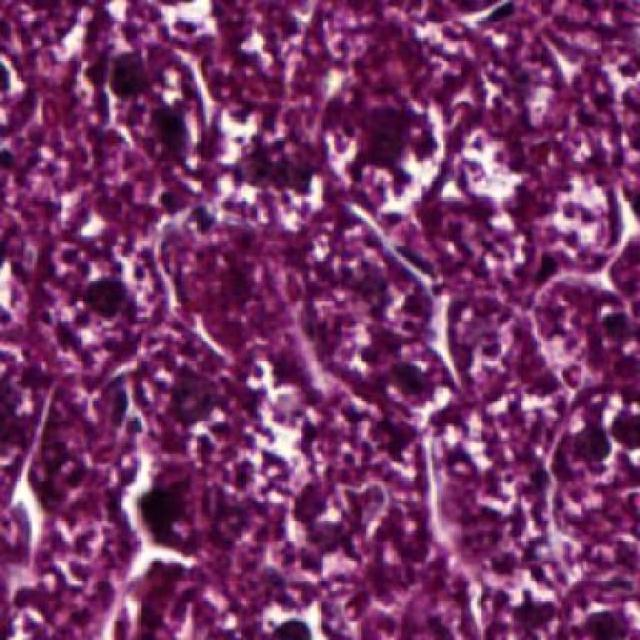inflammation: (205, 109, 332, 233), (322, 92, 450, 214), (118, 471, 211, 574), (529, 171, 622, 271), (446, 120, 535, 208), (558, 401, 640, 487), (258, 603, 331, 639)
